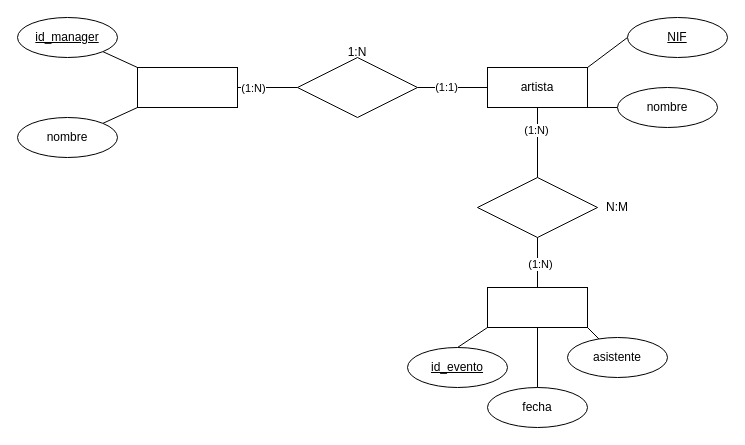
The diagram is 745 pixels wide and 445 high, and some of its shapes have lost their labels. Each missing label, with the box of its shape:
evento: (486, 286, 588, 328)
Manager: (136, 66, 238, 108)
participa: (476, 176, 598, 238)
representa: (296, 56, 418, 118)
